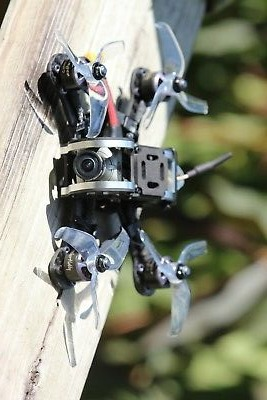drone: (34, 23, 232, 368)
